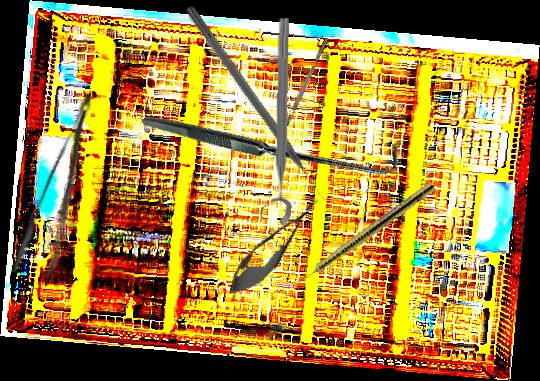Chopper: (273, 37, 335, 148)
Dressing Forceps: (7, 89, 126, 288)
Fixation Ring: (258, 17, 295, 226)
Handpiece: (289, 179, 437, 292)
Hook Surgical: (140, 6, 407, 274)
Micro Scissor: (219, 188, 329, 306)
Pusher: (182, 3, 329, 206)
